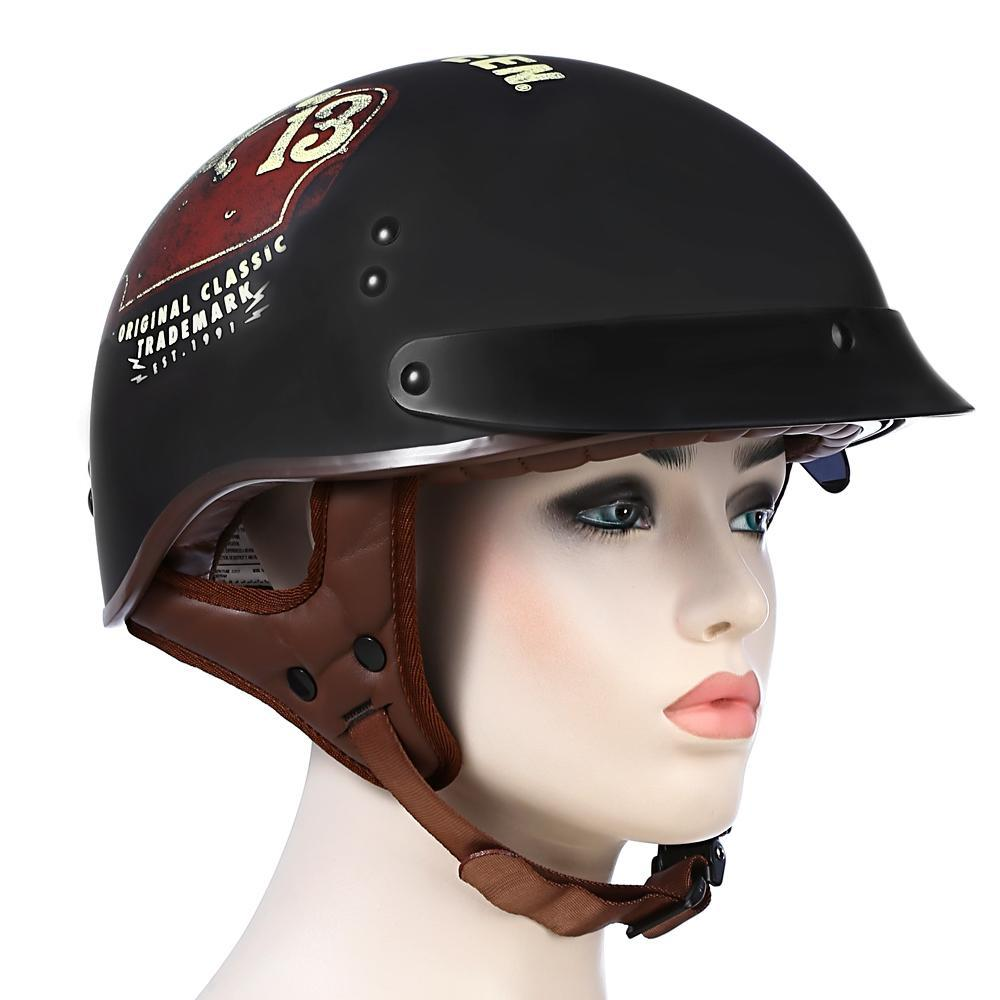helmet: (92, 52, 977, 625)
